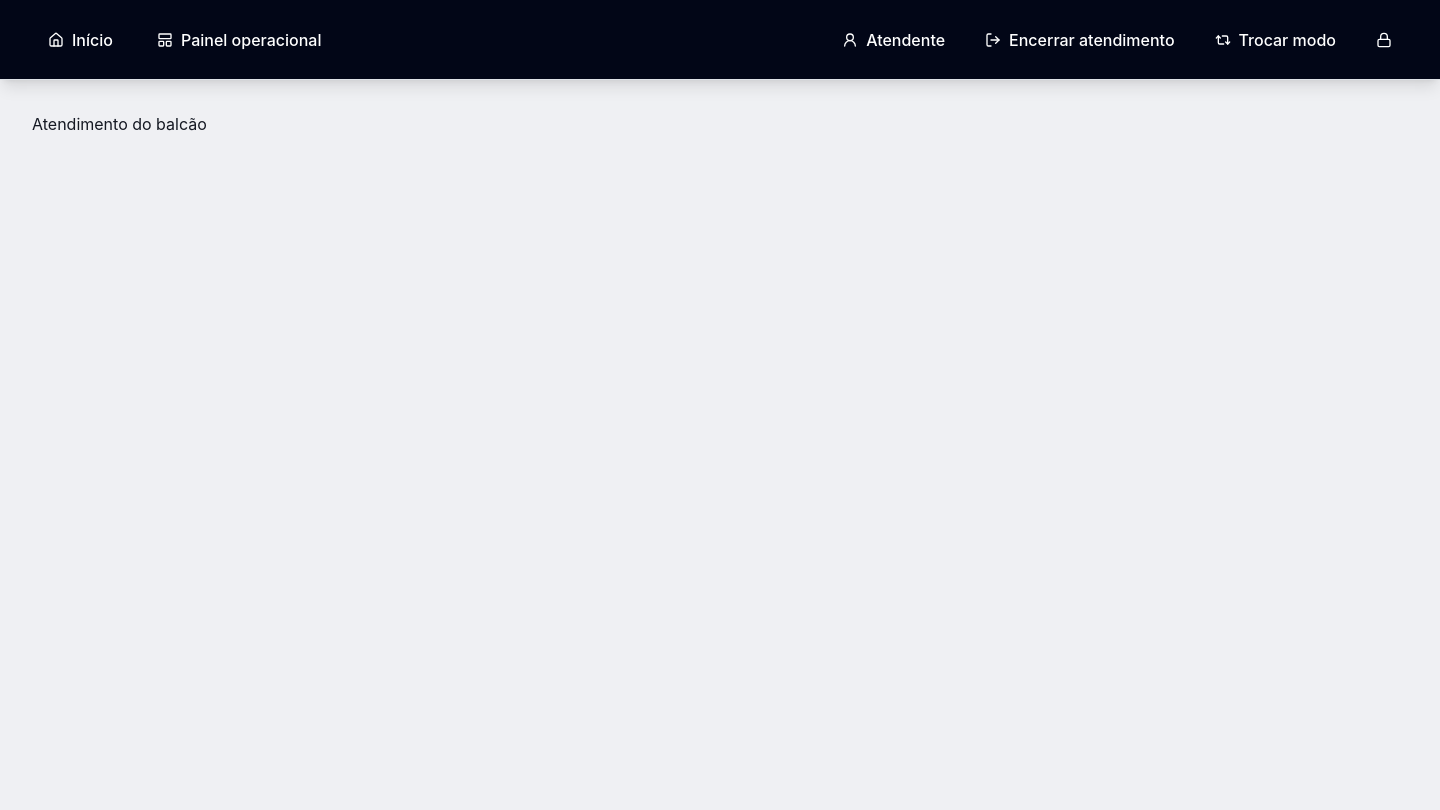
Test: cadeado do Modo Balcão › abre o seletor de PIN ao clicar no cadeado e não deixa o balcão visível
The width and height of the screenshot is (1440, 810).
Expected: the text "Atendimento do balcão" is shown, [32,114,207,134]
Click the button named "Bloquear acesso" at point(1384, 40), box [1360,16,1408,64]
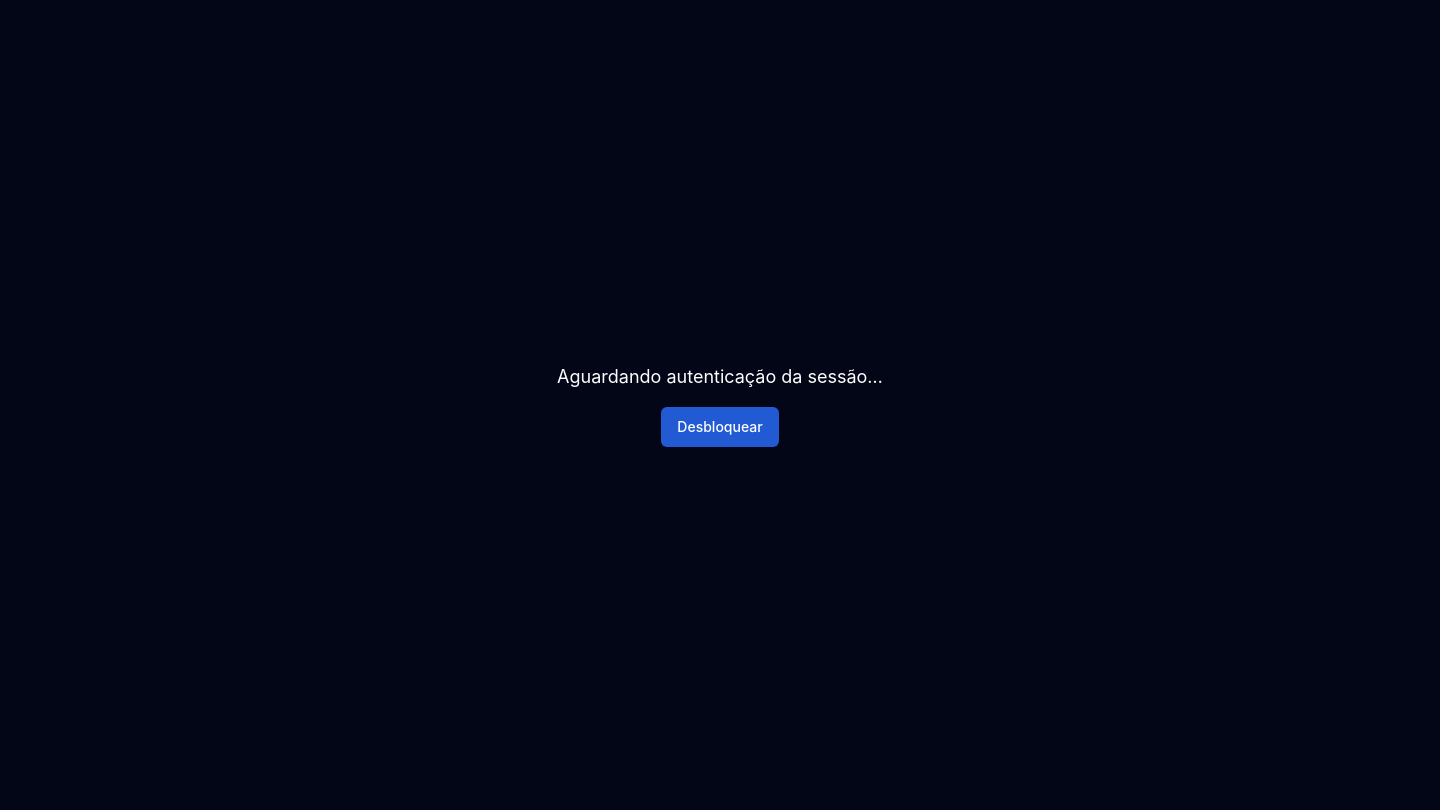
Result: the text "Aguardando autenticação da sessão…" is shown at [557,363,883,391]
Result: the text "Atendimento do balcão" is gone
